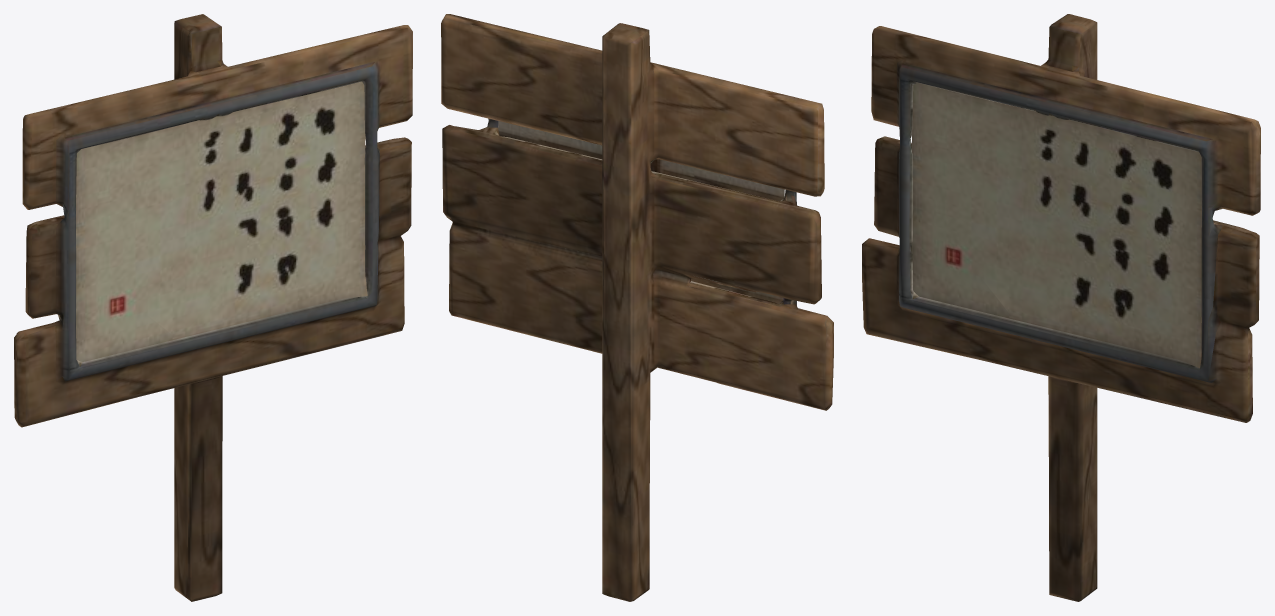
File: signpost_far.glb
3 renders of one model, left to right at view 1: azimuth 30°, elevation 25°; view 2: azimuth 150°, elevation 25°; view 3: azimuth 330°, elevation 25°, orthographic.
Visible parts, largest first — view 1: signpost_notice_lod1; view 2: signpost_notice_lod1; view 3: signpost_notice_lod1.
Boxes of the visible parts, x1,y1,x2,y2 form: signpost_notice_lod1: (14, 14, 412, 601); signpost_notice_lod1: (441, 14, 833, 601); signpost_notice_lod1: (862, 14, 1260, 601).
Size of the model in its own units: 1.17 by 1.62 by 0.1622.
Materials: 1 (1 with a texture image).
